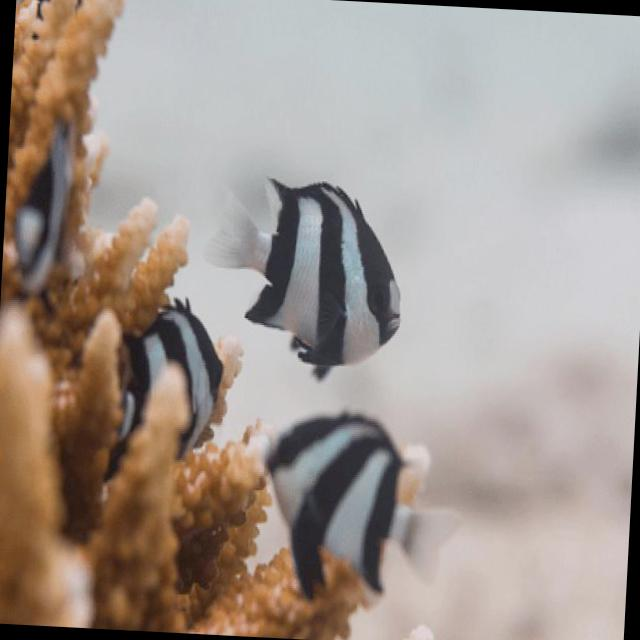Three_striped DasmselFish: (204, 170, 407, 384), (252, 404, 462, 610), (110, 291, 228, 482), (10, 117, 76, 300)
